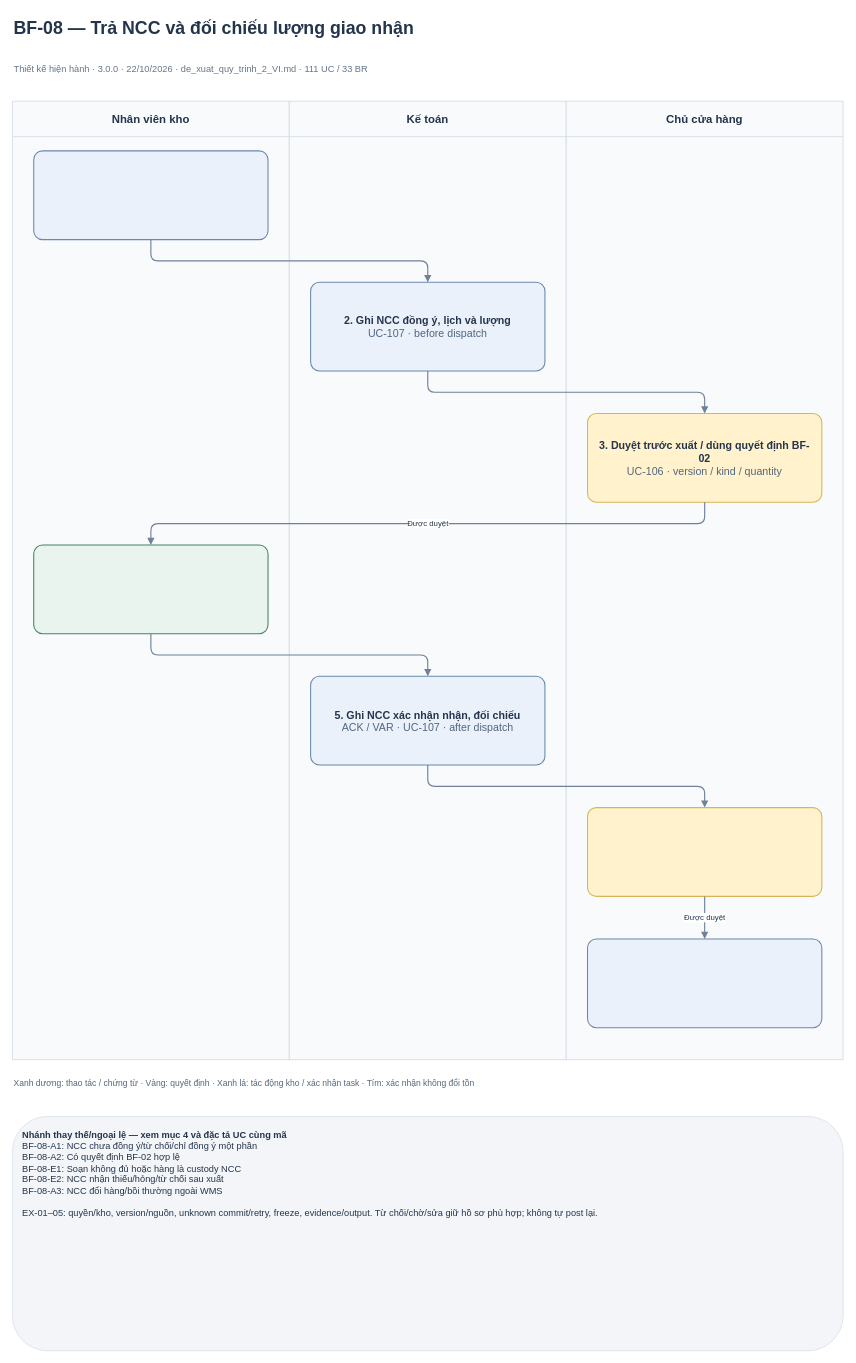
Some shapes in this 856 by 1363 pixel diagram are drawn without their labels. Each missing label, with the centre of its shape:
"1. Đề nghị trả, cách ly/giữ đúng lượng SR · UC-81" goes at pixel 150 195.
"4. Soạn, bàn giao và post trả thực tế GI-SR / CUS-OUT · UC-82" goes at pixel 150 589.
"6. Duyệt xử lý sai lệch nếu có UC-106 · preserve actual GI" goes at pixel 704 852.
"7. Đóng khi mọi lượng được đối chiếu UC-83 · no second deduction" goes at pixel 704 983.
